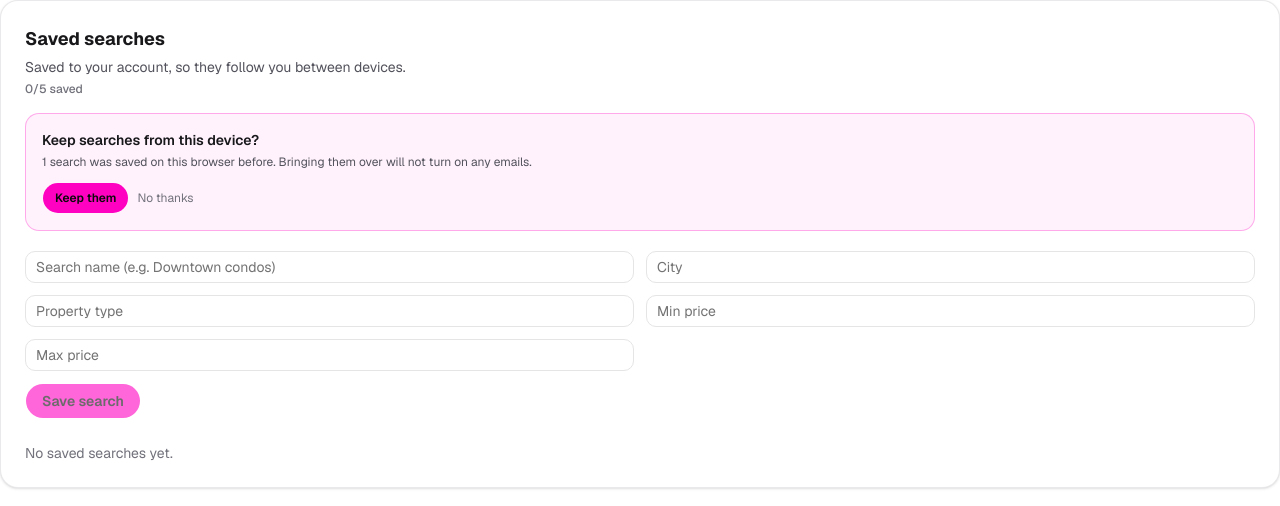
the offer can be declined
The width and height of the screenshot is (1280, 506).
Expected: the text "Keep searches from this device?" is shown, [42,131,259,149]
Click the button "No thanks".
click(166, 198)  # box [137,182,194,214]
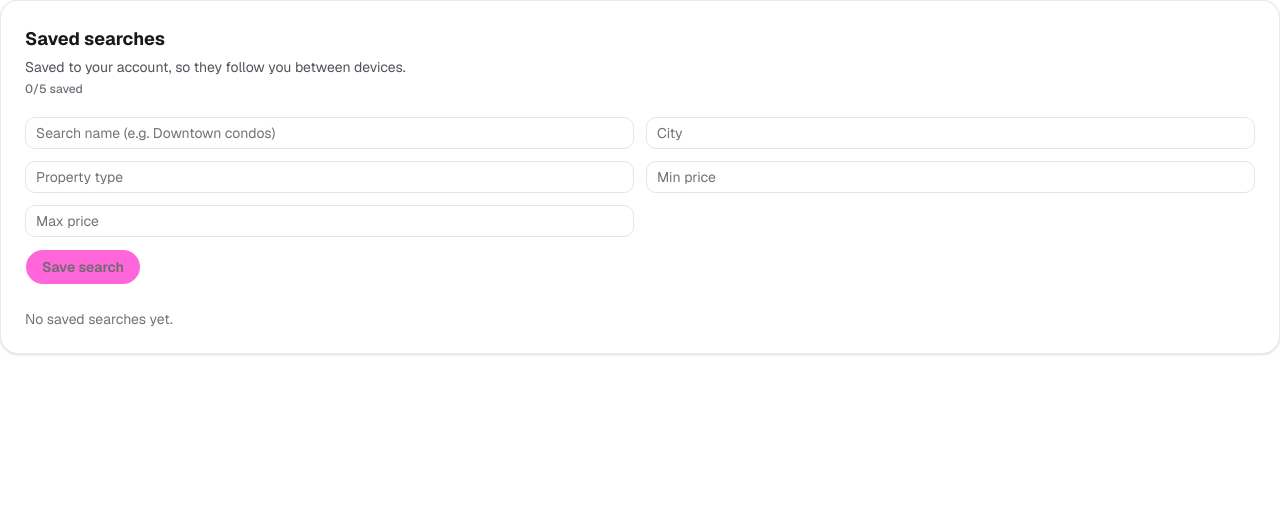
Result: the text "Keep searches from this device" is gone
